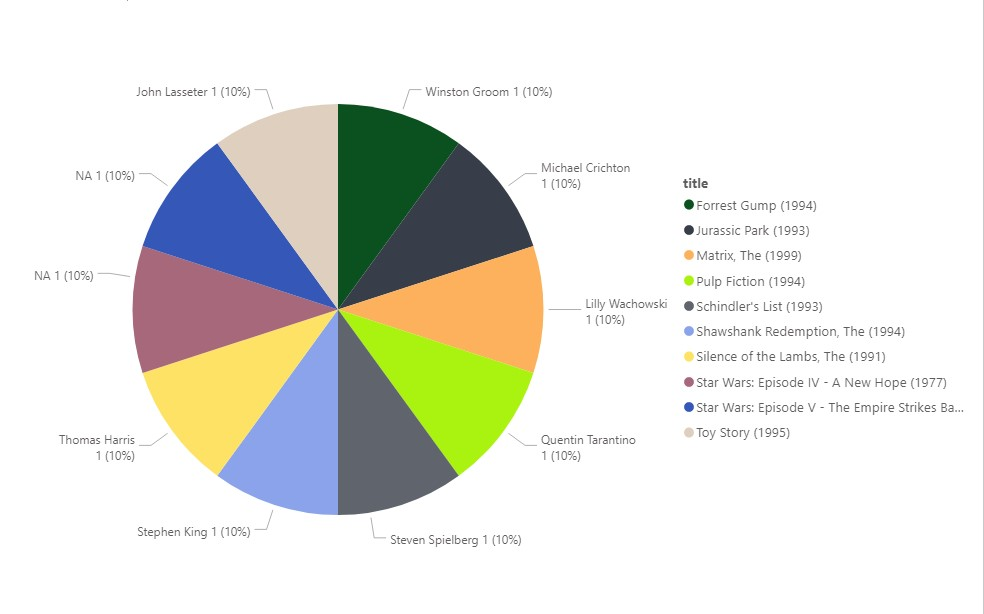

What the dashboard file says about the page in this screenshot:
{"tool":"powerbi","page":{"name":"movies and directors","canvas":[1280,720],"ordinal":2},"visuals":[{"type":"pieChart","fields":{"Y":["movies.title"],"Series":["imdb_data.director"],"Category":["movies.title"]},"box":[10,0,280,280],"z":0}]}

Visuals, with their boxes on the page's 1280x720 design canvas (x1, y1, x2, y2). These are canvas units, not pixel positions in the 984x614 screenshot, which may show the page scaled, cropped or inside an application window:
pieChart - movies.title x imdb_data.director: 10/0/290/280
